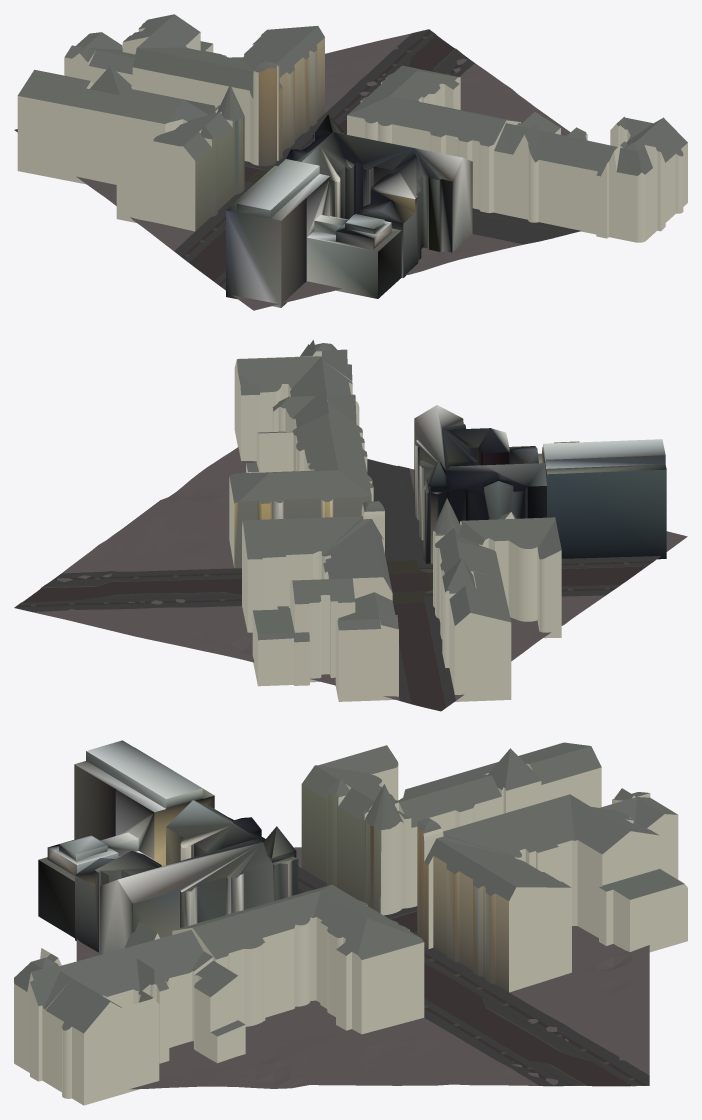
The picture shows the model from 3 angles, top to bottom: view 1: azimuth 30°, elevation 25°; view 2: azimuth 150°, elevation 25°; view 3: azimuth 270°, elevation 25°; orthographic projection. The views are drawn at different scales.
Parts seen in each view (by area): view 1: c_m07_p04; view 2: c_m07_p04; view 3: c_m07_p04.
Boxes of the visible parts, x1=… form: c_m07_p04: x1=14, y1=14, x2=687, y2=310; c_m07_p04: x1=14, y1=340, x2=687, y2=711; c_m07_p04: x1=14, y1=740, x2=687, y2=1105.
Bounding box in the file's own units: 145 × 32.4 × 151.
